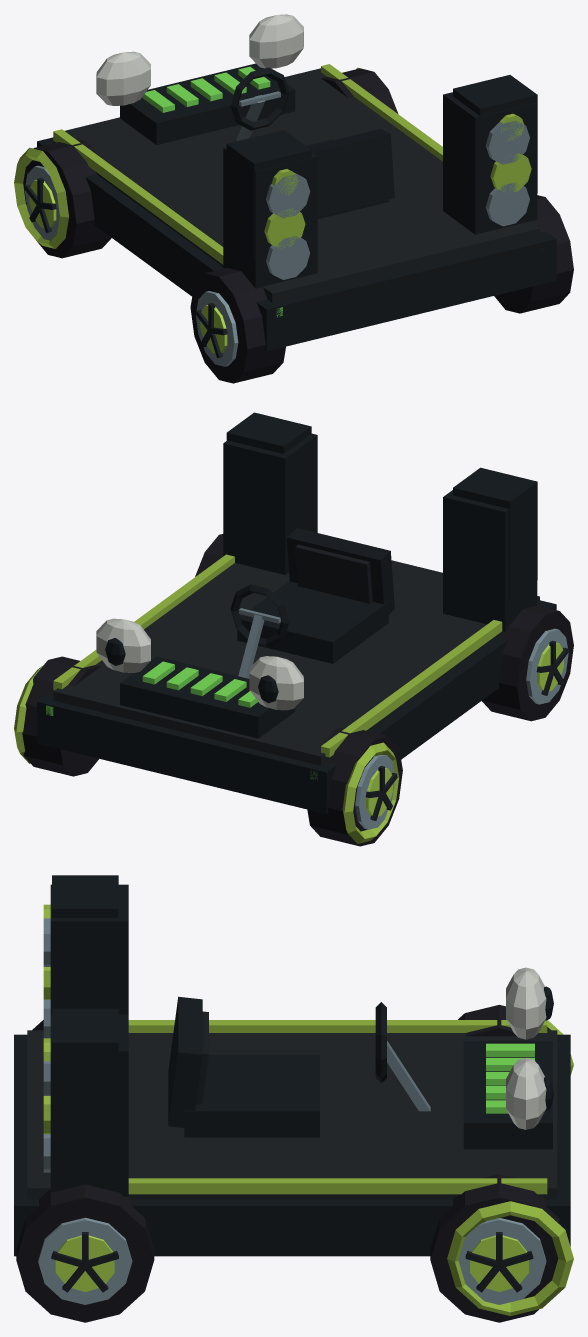
File: kart.glb
3 renders of one model, top to bottom at view 1: azimuth 30°, elevation 25°; view 2: azimuth 150°, elevation 25°; view 3: azimuth 270°, elevation 25°, orthographic. The views are drawn at different scales.
Visible parts, largest first — view 1: identity-stage-stage-platform-and-pa-towers, identity-stage-motif-speakers, identity-stage-driver-cockpit, wheel-rear-left, wheel-front-left, identity-stage-motif-eyes, wheel-rear-right, identity-stage-motif-neon, wheel-front-right; view 2: identity-stage-stage-platform-and-pa-towers, identity-stage-driver-cockpit, wheel-rear-left, identity-stage-motif-speakers, wheel-front-left, identity-stage-motif-eyes, wheel-front-right, identity-stage-motif-neon; view 3: identity-stage-stage-platform-and-pa-towers, identity-stage-driver-cockpit, wheel-rear-right, identity-stage-motif-speakers, wheel-front-right, identity-stage-motif-eyes, identity-stage-motif-neon, wheel-front-left.
Part boxes in pixels (bbox=[...]): identity-stage-stage-platform-and-pa-towers: bbox=[37, 63, 556, 350]; identity-stage-motif-speakers: bbox=[226, 75, 537, 262]; identity-stage-driver-cockpit: bbox=[230, 67, 394, 219]; wheel-rear-left: bbox=[190, 268, 285, 383]; wheel-front-left: bbox=[23, 138, 111, 258]; identity-stage-motif-eyes: bbox=[96, 14, 303, 105]; wheel-rear-right: bbox=[494, 195, 573, 313]; identity-stage-motif-neon: bbox=[14, 67, 363, 317]; wheel-front-right: bbox=[321, 68, 398, 113]; identity-stage-stage-platform-and-pa-towers: bbox=[37, 433, 556, 814]; identity-stage-driver-cockpit: bbox=[230, 528, 394, 678]; wheel-rear-left: bbox=[482, 605, 573, 721]; identity-stage-motif-speakers: bbox=[226, 412, 537, 599]; wheel-front-left: bbox=[307, 727, 402, 846]; identity-stage-motif-eyes: bbox=[96, 618, 303, 710]; wheel-front-right: bbox=[22, 656, 100, 776]; identity-stage-motif-neon: bbox=[14, 665, 399, 843]; identity-stage-stage-platform-and-pa-towers: bbox=[14, 884, 570, 1256]; identity-stage-driver-cockpit: bbox=[168, 996, 430, 1137]; wheel-rear-right: bbox=[16, 1184, 154, 1322]; identity-stage-motif-speakers: bbox=[43, 875, 118, 1161]; wheel-front-right: bbox=[430, 1174, 561, 1322]; identity-stage-motif-eyes: bbox=[506, 967, 553, 1129]; identity-stage-motif-neon: bbox=[447, 1020, 573, 1315]; wheel-front-left: bbox=[458, 1004, 550, 1036].
Bounding box in the file's own units: 2.16 × 1.33 × 2.51.
